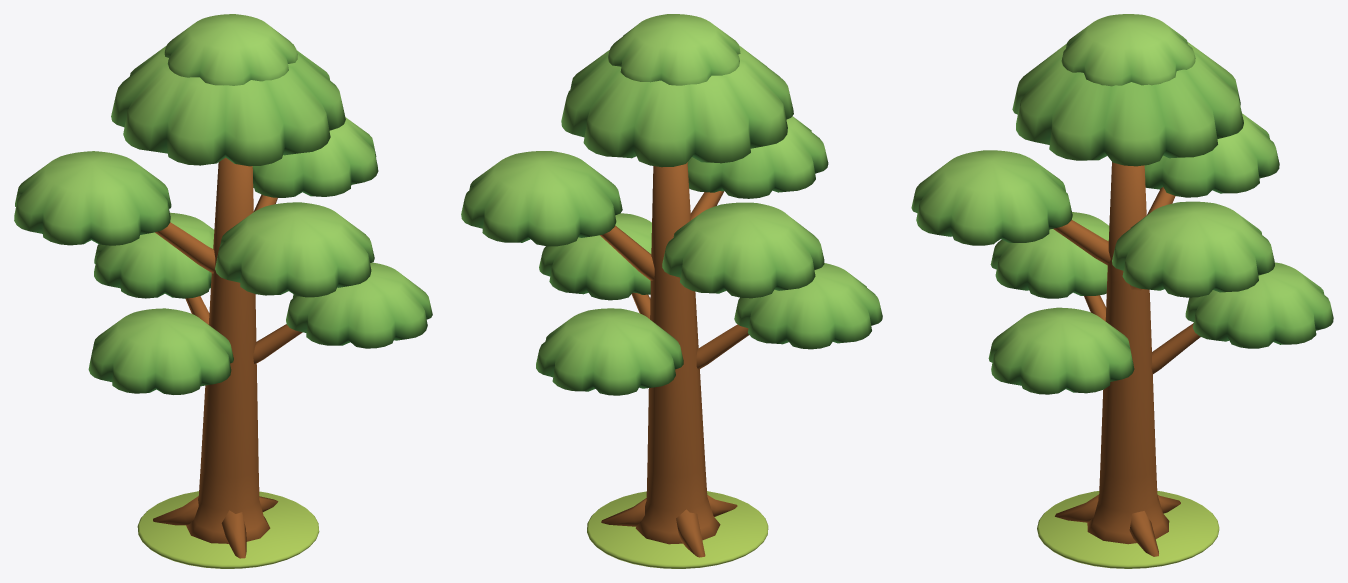
The model's file is layered-tree.glb.
The picture shows the model from 3 angles, left to right: view 1: azimuth 30°, elevation 25°; view 2: azimuth 150°, elevation 25°; view 3: azimuth 270°, elevation 25°; orthographic projection.
Visible parts, largest first — view 1: body, base_disc; view 2: body, base_disc; view 3: body, base_disc.
Boxes of the visible parts, left/top/right/bottom form: body: left=14, top=14, right=432, bottom=558; base_disc: left=137, top=491, right=319, bottom=568; body: left=461, top=14, right=882, bottom=557; base_disc: left=587, top=491, right=768, bottom=568; body: left=911, top=14, right=1333, bottom=556; base_disc: left=1037, top=491, right=1219, bottom=568.
Size of the model in its own units: 3.28 by 4.63 by 3.47.
